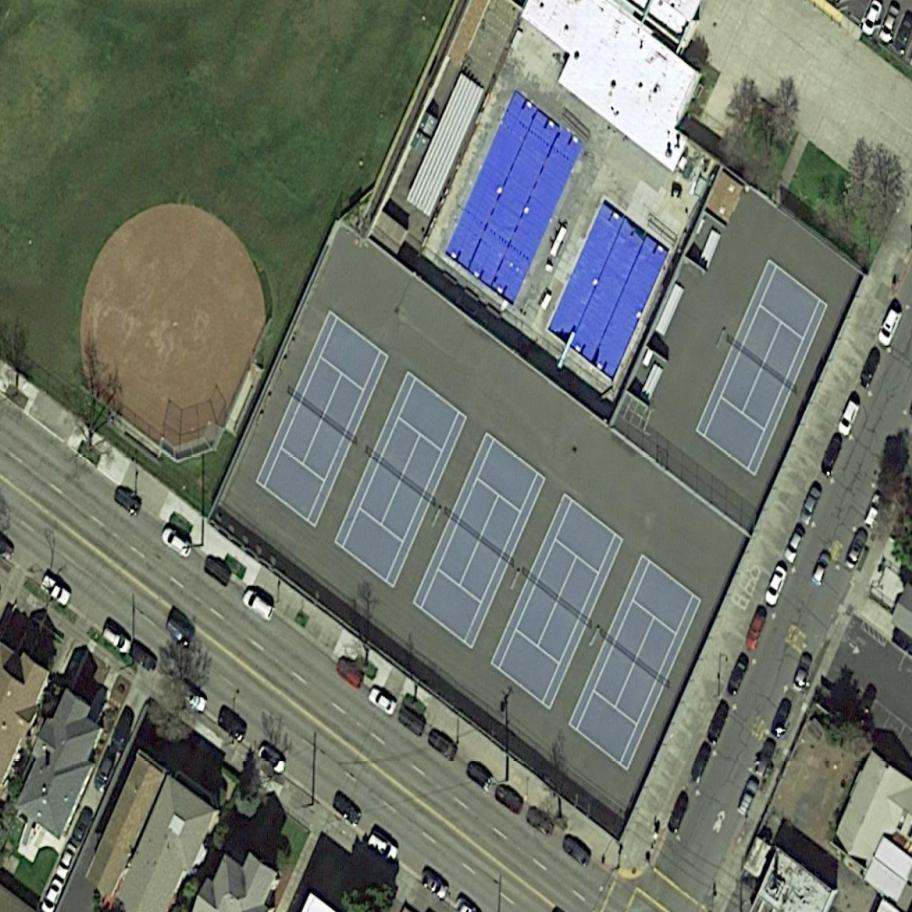large-vehicle: (169, 677, 213, 717), (211, 708, 253, 746), (460, 760, 501, 798), (105, 711, 136, 760), (489, 782, 530, 819), (422, 729, 463, 766), (854, 345, 886, 392), (556, 834, 596, 871), (703, 700, 733, 747), (521, 806, 560, 842), (392, 704, 431, 740), (330, 655, 368, 691), (767, 697, 798, 741), (687, 741, 717, 786), (739, 611, 770, 654), (160, 617, 198, 652), (109, 483, 146, 518), (667, 794, 694, 839), (724, 657, 750, 700), (200, 557, 236, 588)
small-vehicle: (326, 792, 368, 831), (873, 303, 906, 351), (239, 588, 280, 626), (156, 524, 197, 562), (795, 481, 826, 529), (36, 573, 76, 610), (123, 643, 164, 679), (760, 564, 792, 610), (90, 754, 123, 798), (98, 623, 137, 659), (416, 868, 454, 904), (252, 744, 291, 779), (363, 830, 402, 865), (816, 435, 845, 480), (67, 804, 98, 845), (788, 651, 816, 696), (876, 4, 905, 47), (841, 529, 870, 571), (365, 686, 401, 718), (835, 398, 863, 439), (53, 842, 81, 882), (862, 491, 888, 534), (735, 779, 762, 820), (808, 550, 834, 588), (781, 528, 807, 564)
